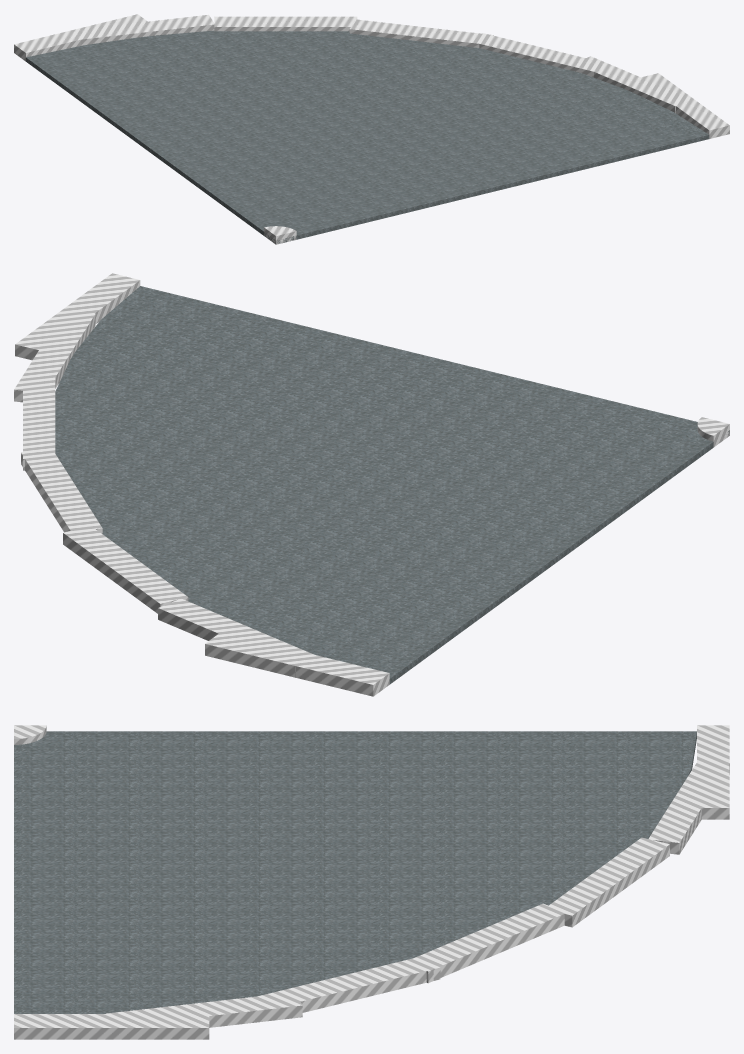
Rendered from track tile curve.fbx.
The picture shows the model from 3 angles, top to bottom: view 1: azimuth 30°, elevation 25°; view 2: azimuth 150°, elevation 25°; view 3: azimuth 270°, elevation 25°; orthographic projection. The views are drawn at different scales.
Parts seen in each view (by area): view 1: arc_quarter (×2), block (×7); view 2: arc_quarter, block (×7); view 3: arc_quarter (×2), block (×7).
Part boxes in pixels (x1=…): arc_quarter (×2): x1=26, y1=30, x2=709, y2=244; block (×7): x1=14, y1=14, x2=729, y2=138; arc_quarter: x1=55, y1=286, x2=729, y2=684; block (×7): x1=14, y1=273, x2=389, y2=696; arc_quarter (×2): x1=14, y1=725, x2=696, y2=1013; block (×7): x1=14, y1=725, x2=729, y2=1039.
Size of the model in its own units: 220 by 4 by 220.
2 materials, 2 textured.
